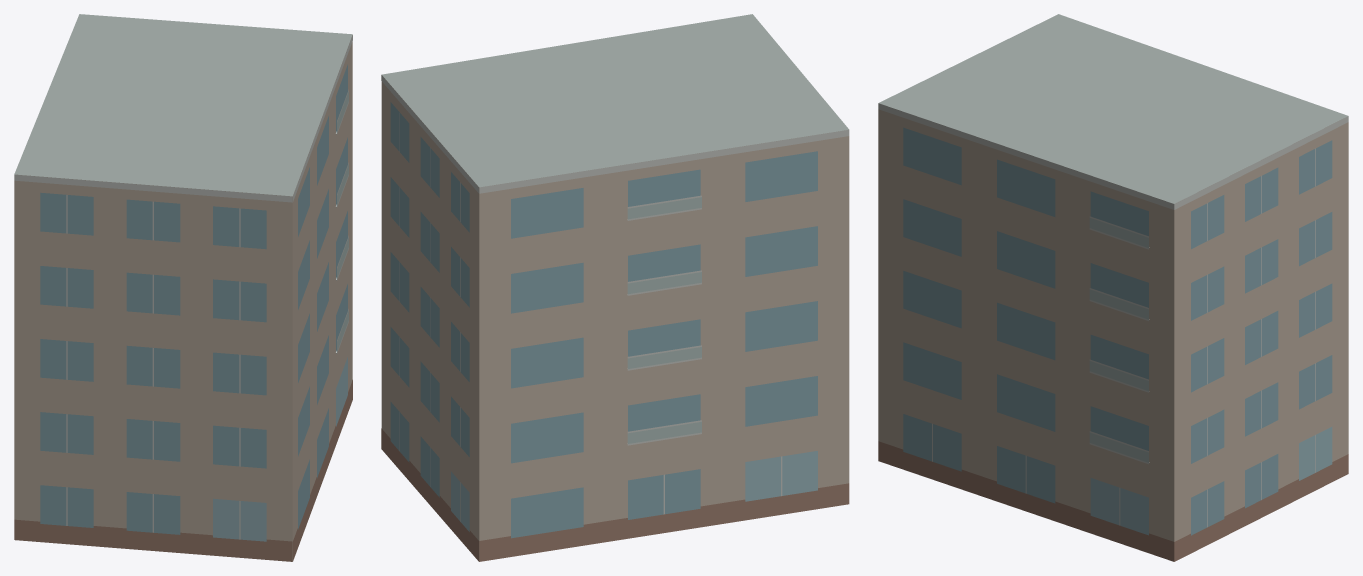
File: survey-upis-32764532.glb
The picture shows the model from 3 angles, left to right: view 1: azimuth 30°, elevation 25°; view 2: azimuth 150°, elevation 25°; view 3: azimuth 270°, elevation 25°; orthographic projection. The views are drawn at different scales.
Visible parts, largest first — view 1: survey-upis-32764532.tmp; view 2: survey-upis-32764532.tmp; view 3: survey-upis-32764532.tmp.
Boxes of the visible parts, bbox=[...] form: survey-upis-32764532.tmp: bbox=[14, 14, 352, 561]; survey-upis-32764532.tmp: bbox=[381, 14, 849, 561]; survey-upis-32764532.tmp: bbox=[878, 14, 1348, 561].
Size of the model in its own units: 16.4 by 14.4 by 17.16.
